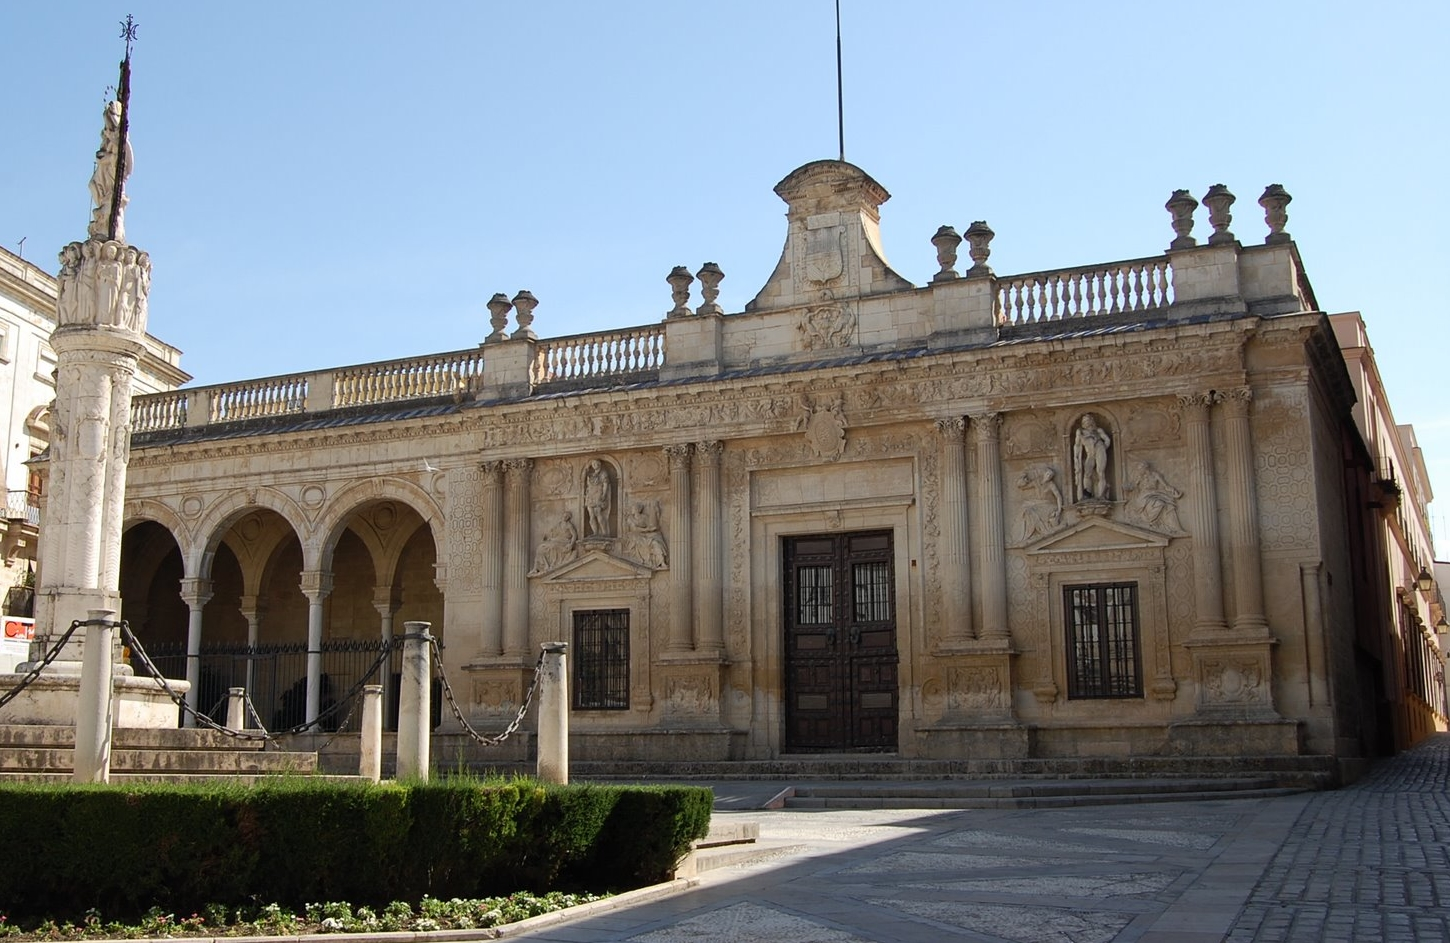arco-medio-punto: (312, 474, 445, 608), (181, 484, 312, 614)
fronton: (1023, 512, 1172, 555), (537, 548, 656, 587)
vano-adintelado: (726, 487, 949, 760), (1027, 547, 1175, 711), (539, 578, 655, 718)
